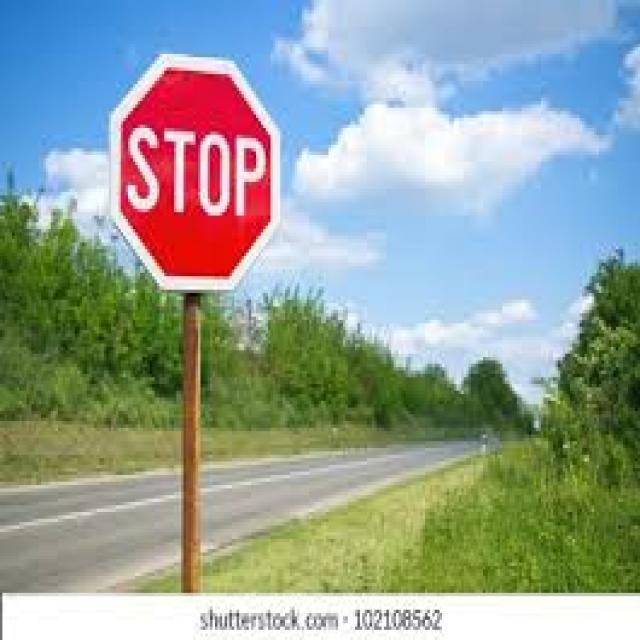stop-sign: (110, 104, 287, 276)
